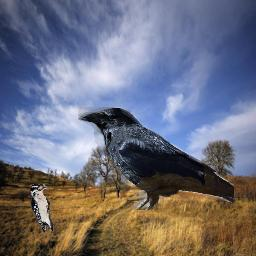Crow: (78, 107, 234, 210)
Woodpecker: (30, 184, 53, 232)
